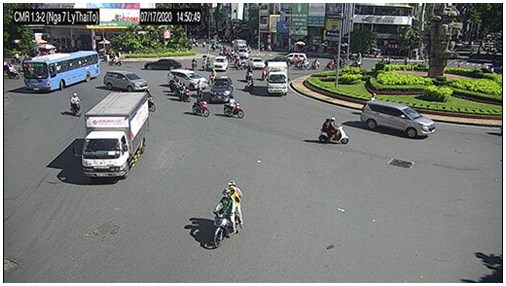xe_buyt: (23, 50, 100, 90)
xe_hoi: (360, 101, 436, 138), (103, 70, 150, 92), (168, 69, 207, 89), (209, 77, 233, 101), (142, 59, 181, 70), (212, 55, 228, 70), (248, 57, 265, 69)
xe_may: (211, 179, 244, 248), (318, 117, 350, 145), (223, 94, 245, 118), (192, 95, 209, 117), (70, 92, 82, 117), (180, 82, 190, 103), (7, 63, 20, 79), (168, 75, 180, 92), (244, 75, 254, 93), (110, 53, 122, 67), (295, 58, 309, 70), (234, 56, 246, 69), (324, 59, 337, 71), (311, 58, 319, 71), (190, 56, 197, 70), (201, 54, 207, 70), (261, 65, 267, 81)
xe_tai: (82, 93, 150, 180), (265, 60, 289, 97), (233, 39, 247, 52)
